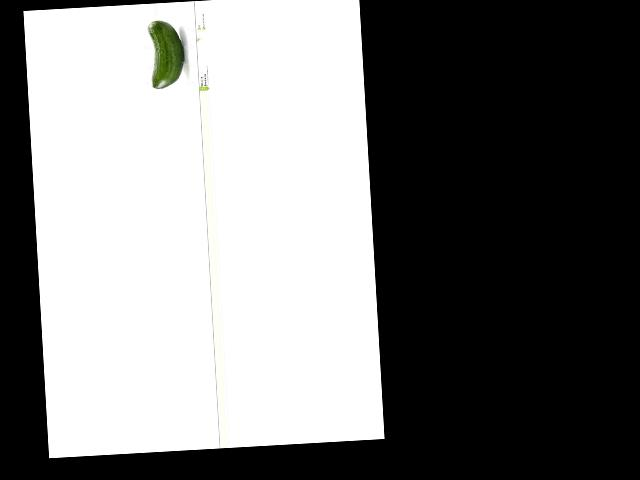cucumber: (148, 19, 185, 88)
